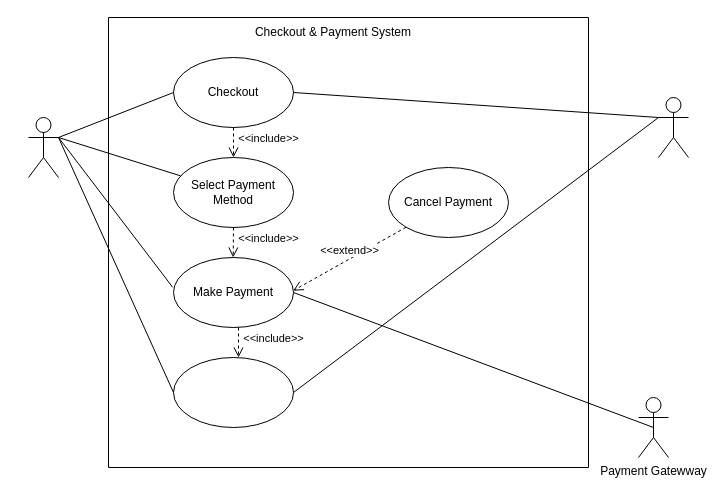
Some shapes in this 724 by 496 pixel diagram are drawn without their labels. Each missing label, with the box of its shape:
Confirm Order: (172, 356, 294, 428)
Customer: (28, 116, 58, 178)
System: (658, 96, 688, 158)
